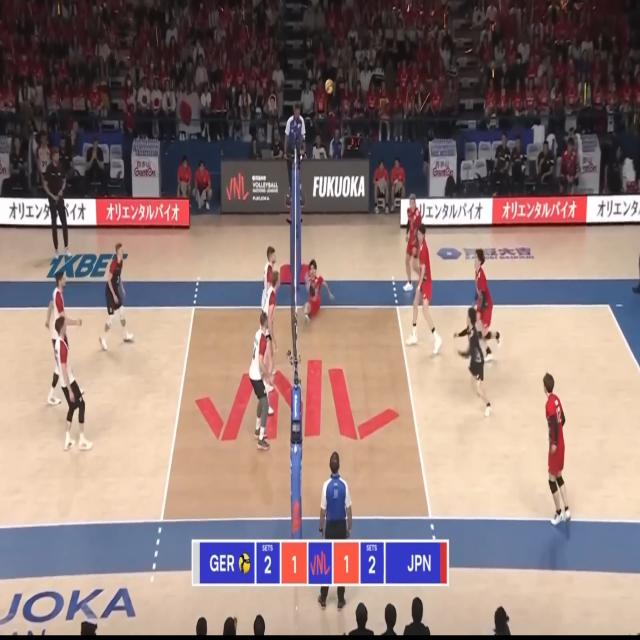ball: (325, 79, 334, 94)
